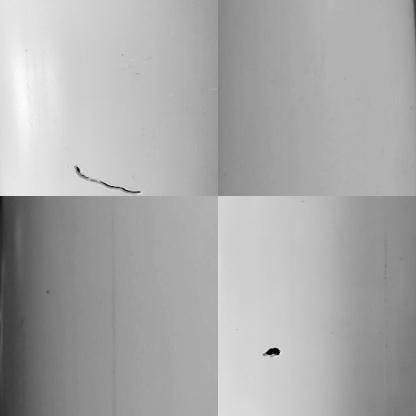fengxi: (71, 161, 144, 197)
kongdong: (260, 346, 285, 359)
